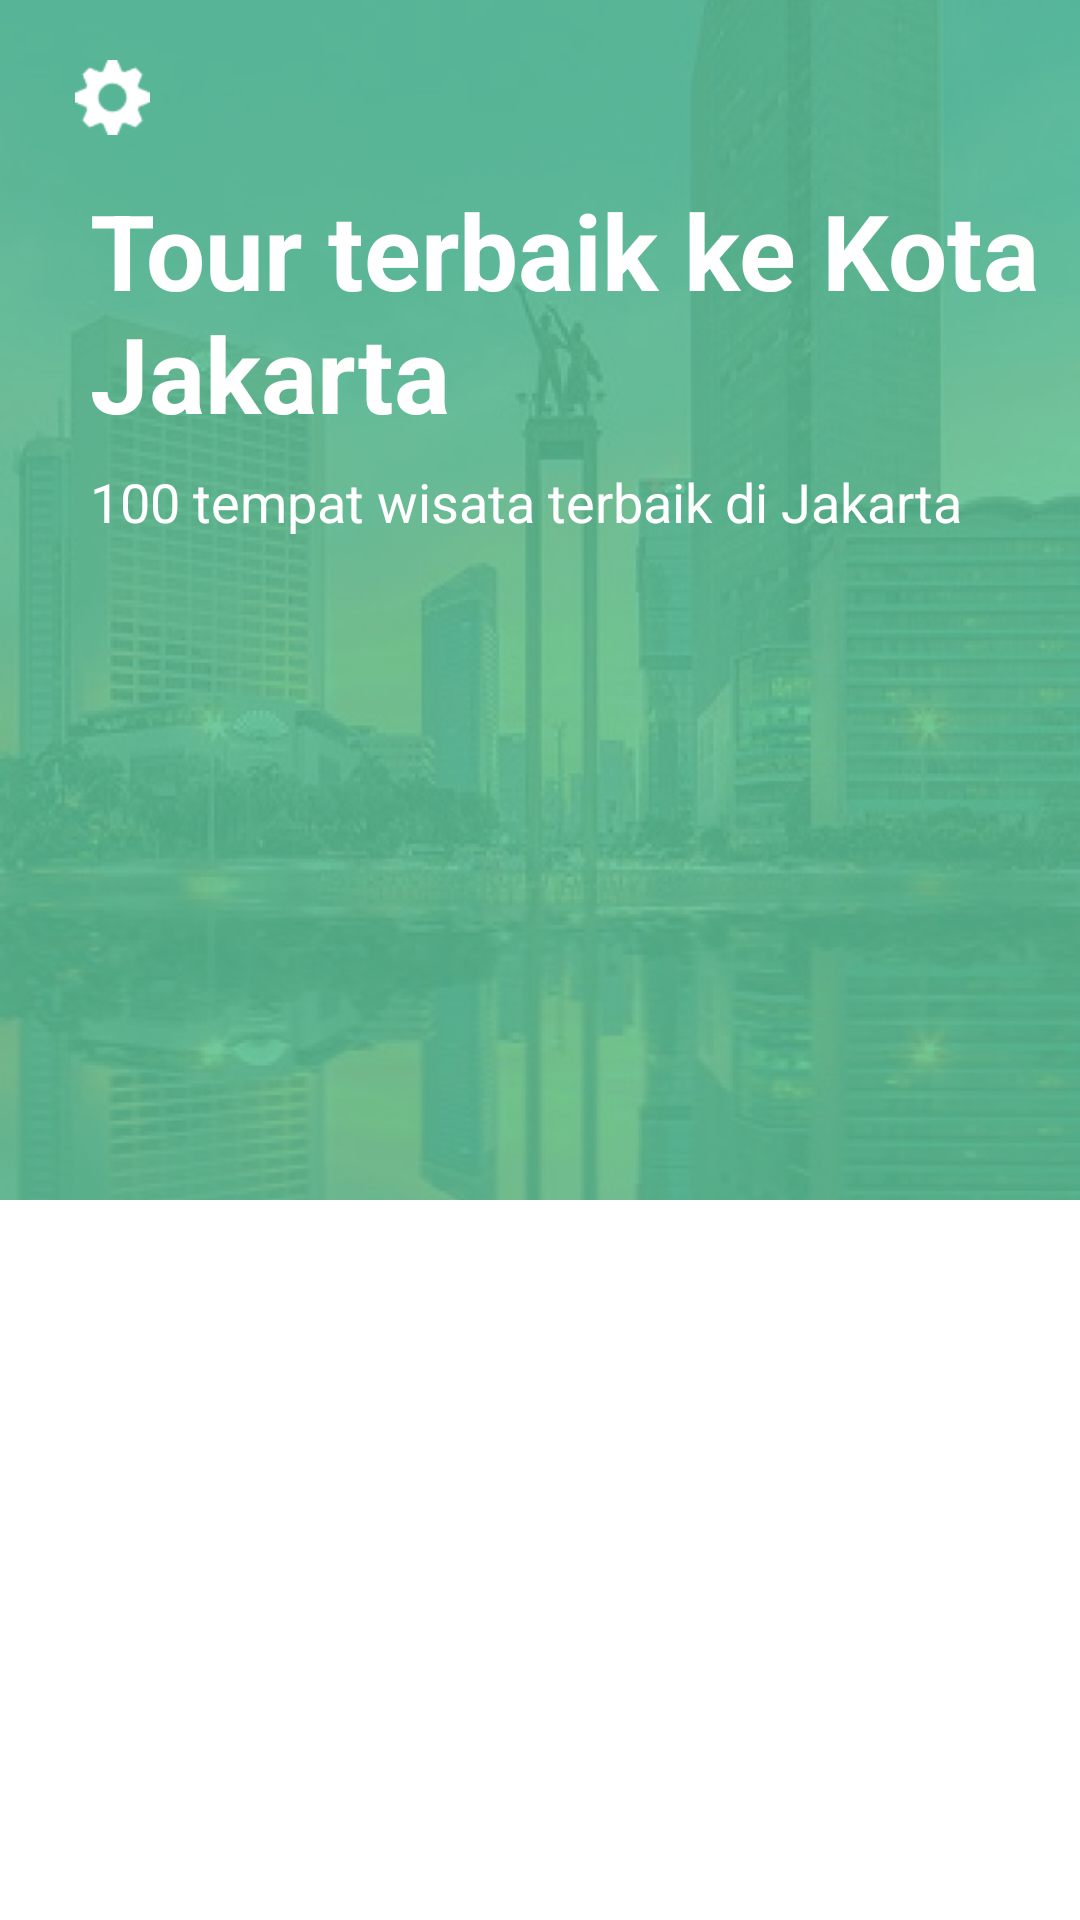

Icon click points for this 1080*1920 phone screenshot, format point (x, y):
setting tool: point (112, 97)
